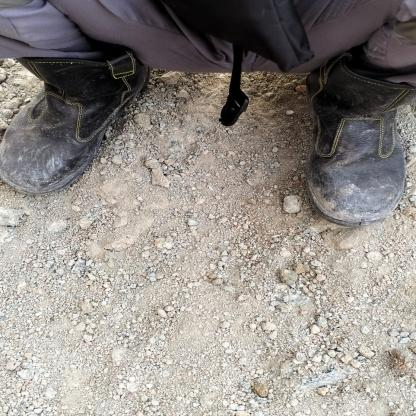bota: (0, 53, 152, 192), (304, 55, 416, 222)
